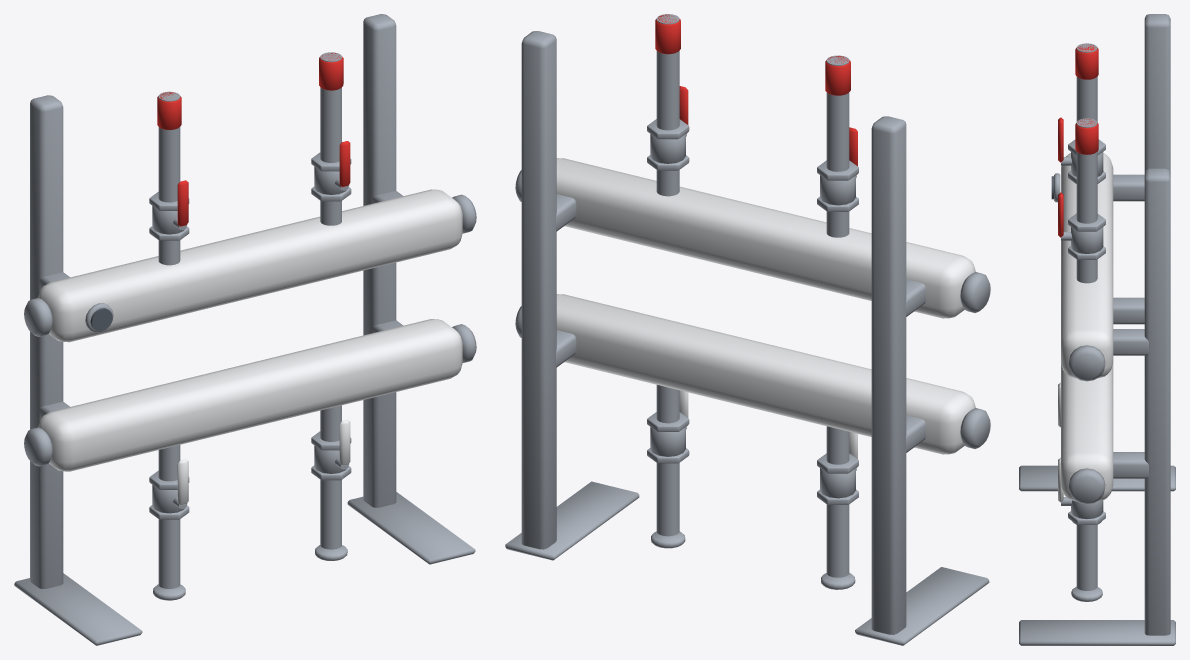
Rendered from heizung.verteiler.n2.glb.
The picture shows the model from 3 angles, left to right: view 1: azimuth 30°, elevation 25°; view 2: azimuth 150°, elevation 25°; view 3: azimuth 270°, elevation 25°; orthographic projection. The views are drawn at different scales.
Visible parts, largest first — view 1: heizung.verteiler.n2; view 2: heizung.verteiler.n2; view 3: heizung.verteiler.n2.
Part boxes in pixels (box(x1,y1,x2,y2)): heizung.verteiler.n2: box(14, 14, 476, 645); heizung.verteiler.n2: box(505, 14, 990, 645); heizung.verteiler.n2: box(1019, 14, 1175, 645).
Bounding box in the file's own units: 0.92 × 1 × 0.3.
